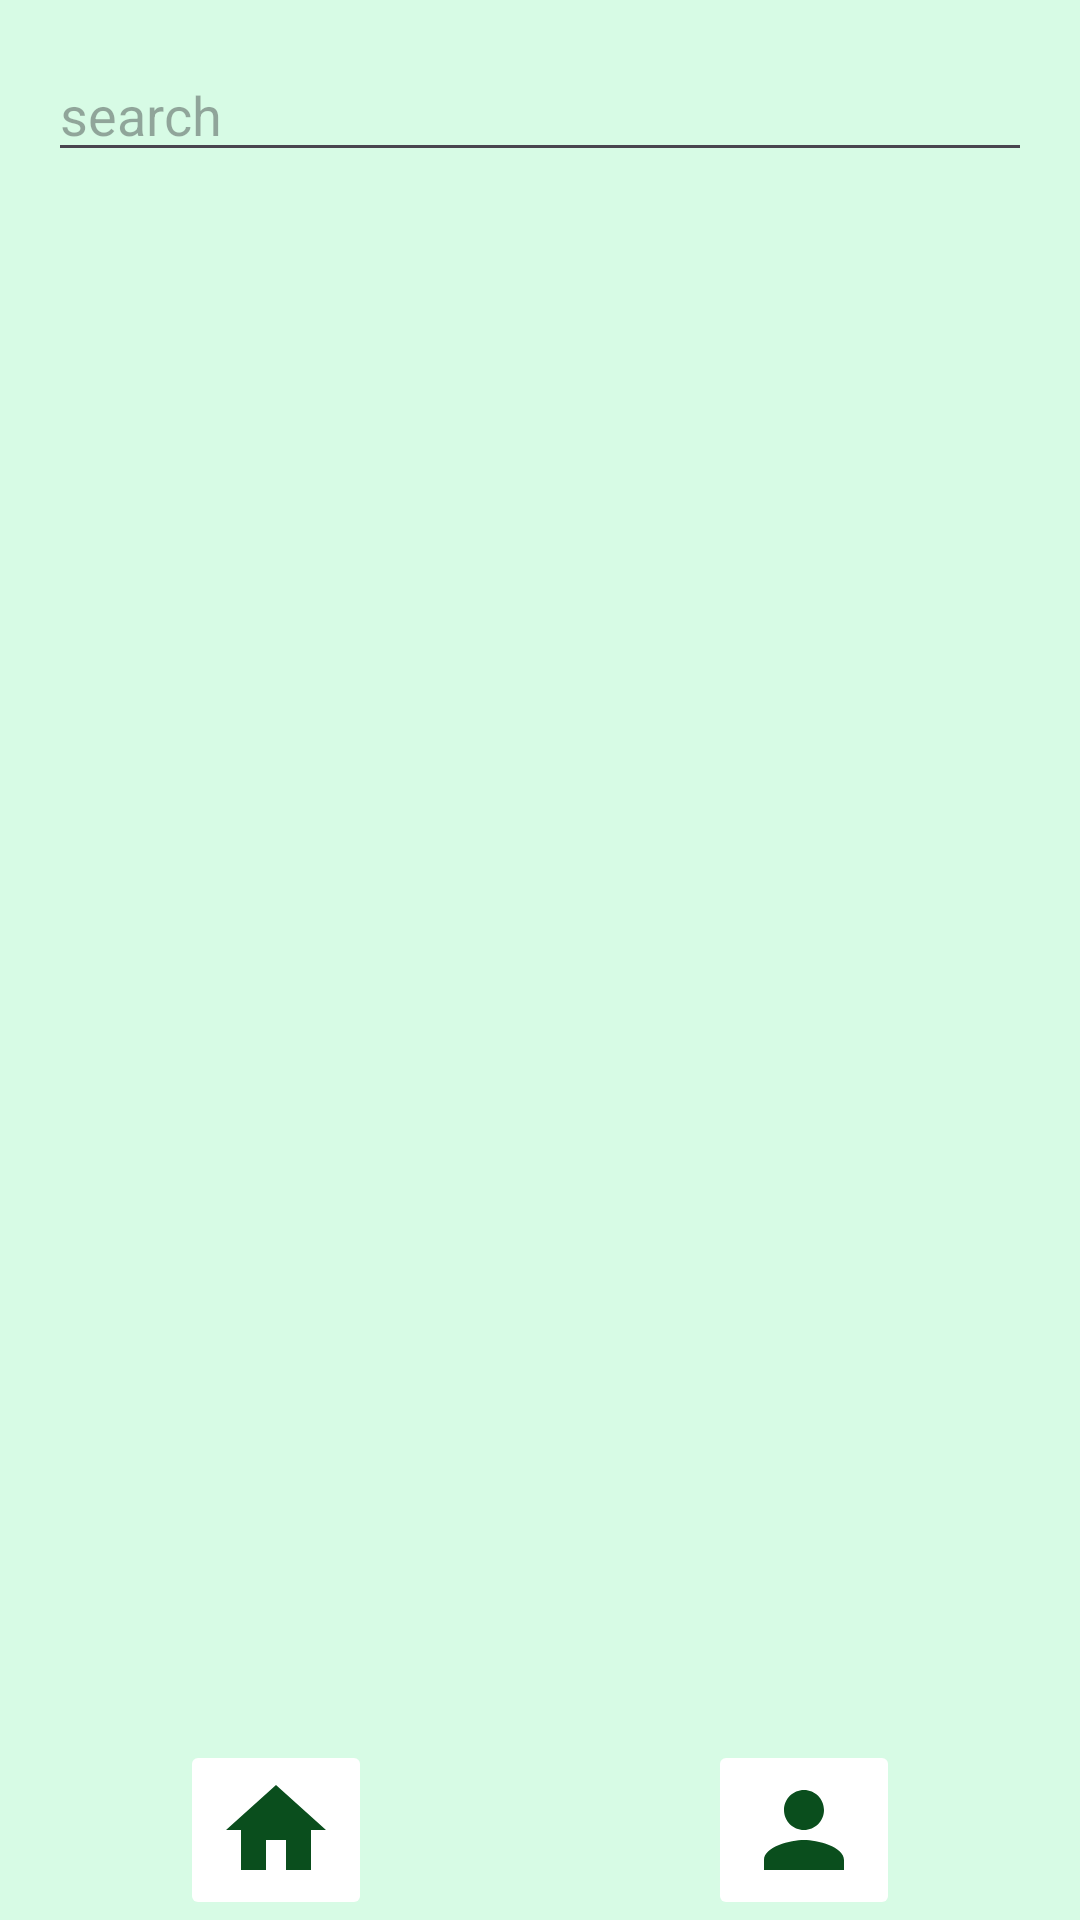

Screen size 1080 x 1920. Icon name, then its box in pixels as (x1, y1, x2, y2):
home: (192, 1758, 360, 1902)
